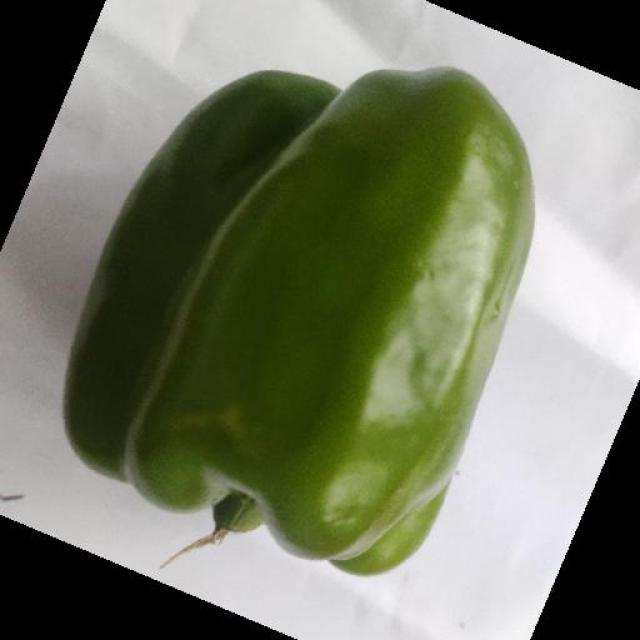Stale_Capsicum: (58, 48, 323, 474)
